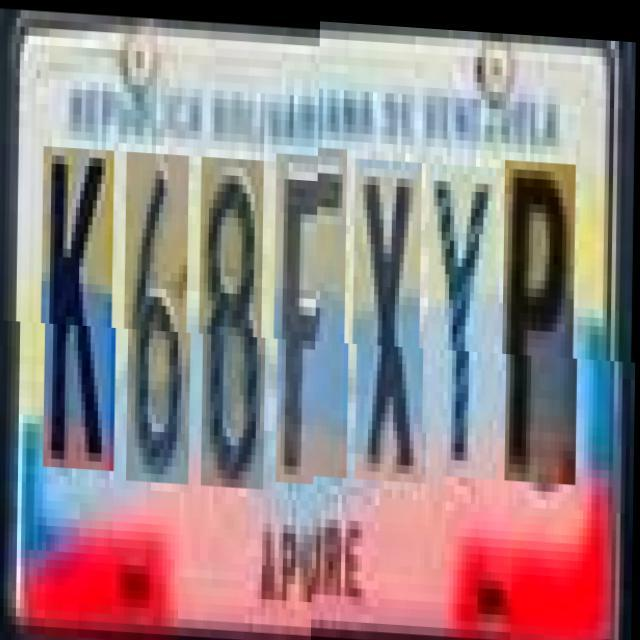6: (128, 150, 194, 482)
8: (202, 154, 268, 486)
F: (278, 150, 352, 482)
K: (44, 146, 119, 470)
P: (506, 161, 580, 485)
X: (356, 162, 426, 485)
Y: (431, 166, 501, 481)
